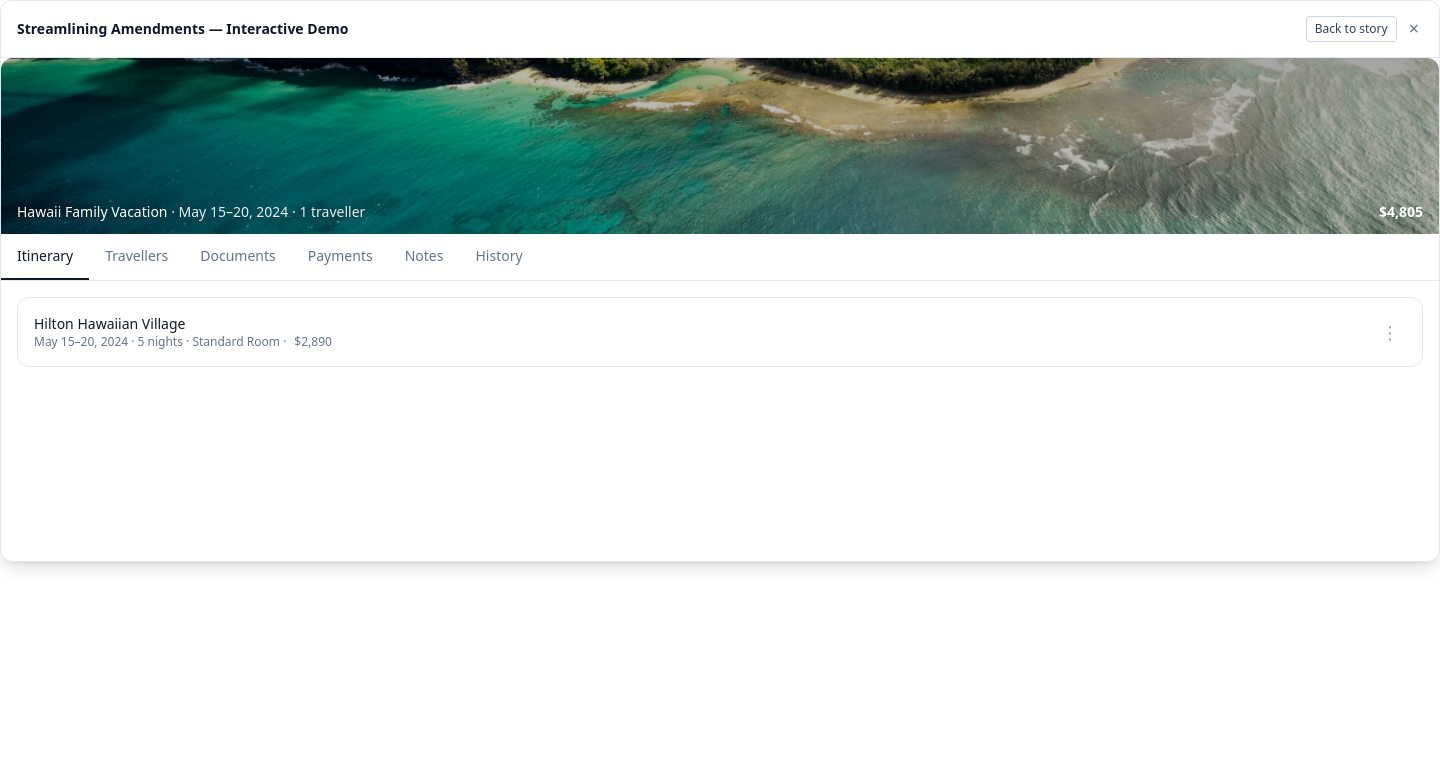
Dream flow – user flows › Confirm collapses flow and shows amended card in itinerary
The width and height of the screenshot is (1440, 775).
Click the button named "Actions": (1390, 332) [1374, 316, 1406, 348]
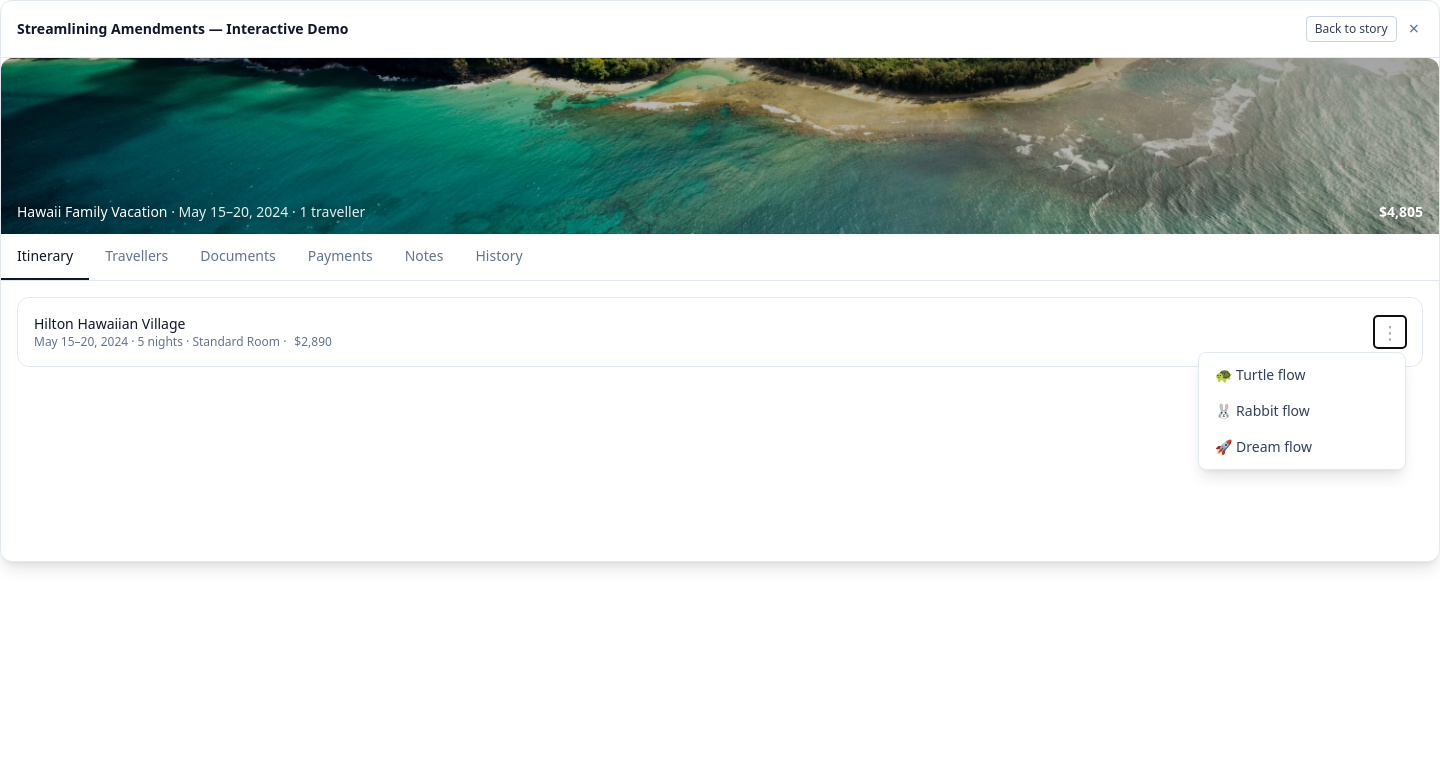
Click the button "🚀 Dream flow": (1302, 447) [1199, 429, 1405, 465]
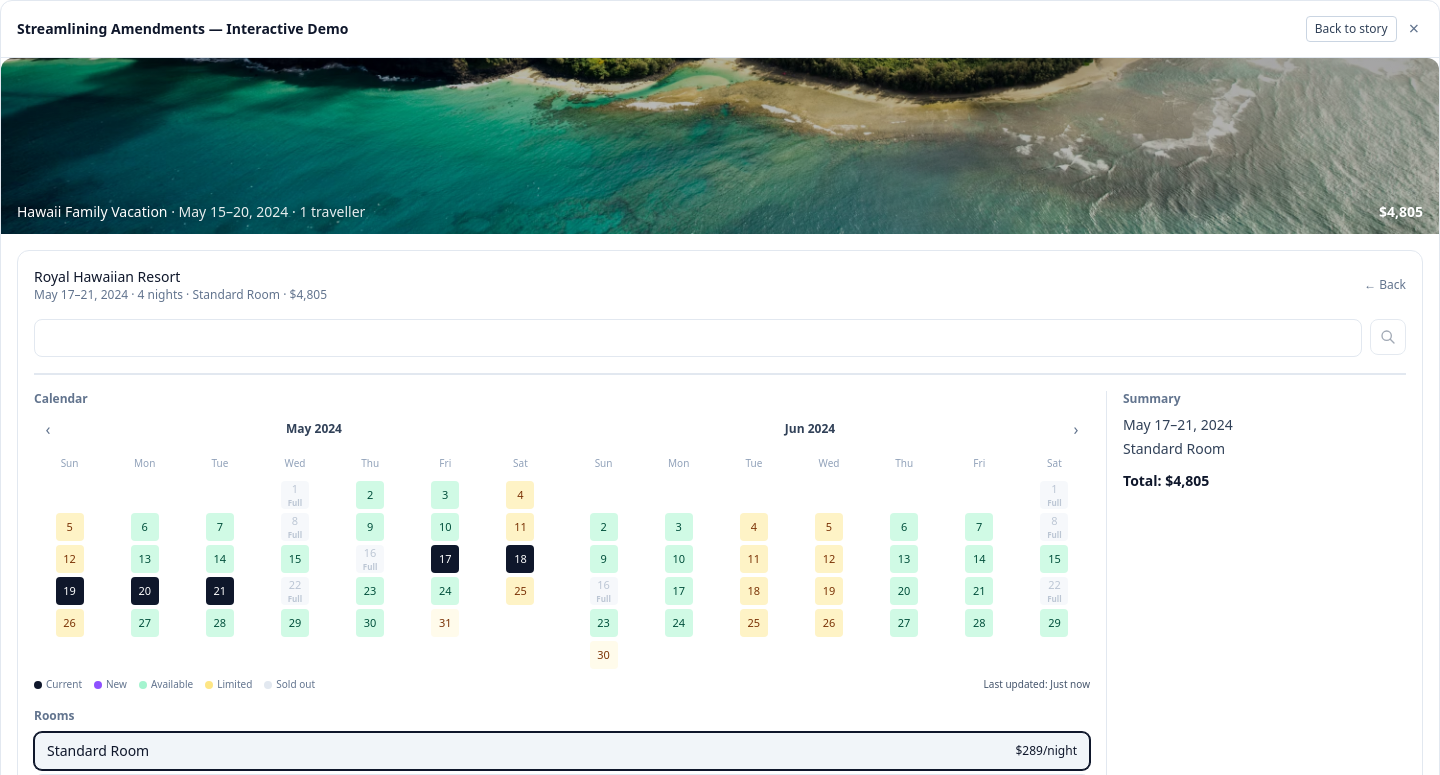
expect the text "May 17–21, 2024 · 4 nights · Standard Room · $4,805" is shown: met, box [34, 286, 327, 303]
Click the 1st button "21": (220, 591) [206, 577, 234, 605]
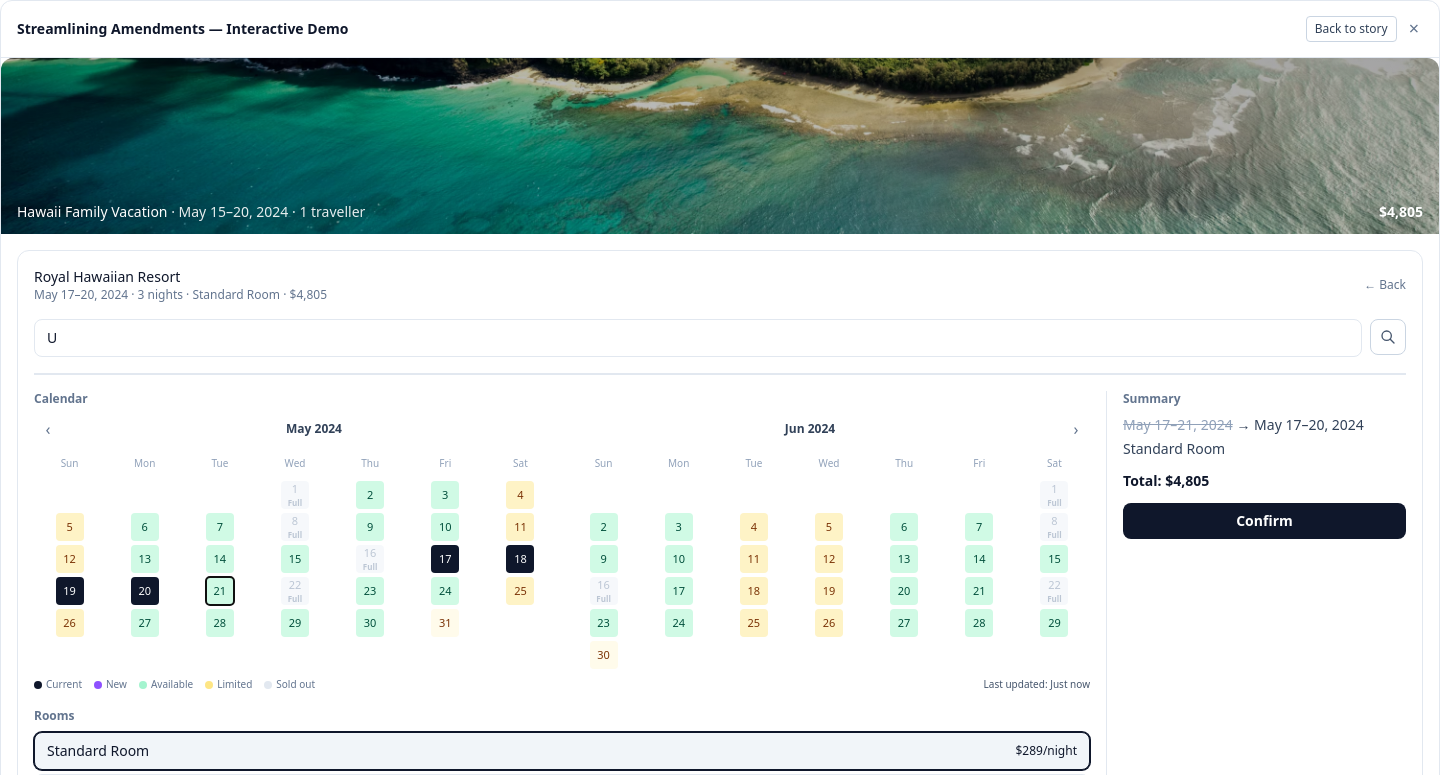
expect the button "Confirm" is shown: met
Click the button "Confirm": (1264, 521) [1123, 503, 1406, 539]
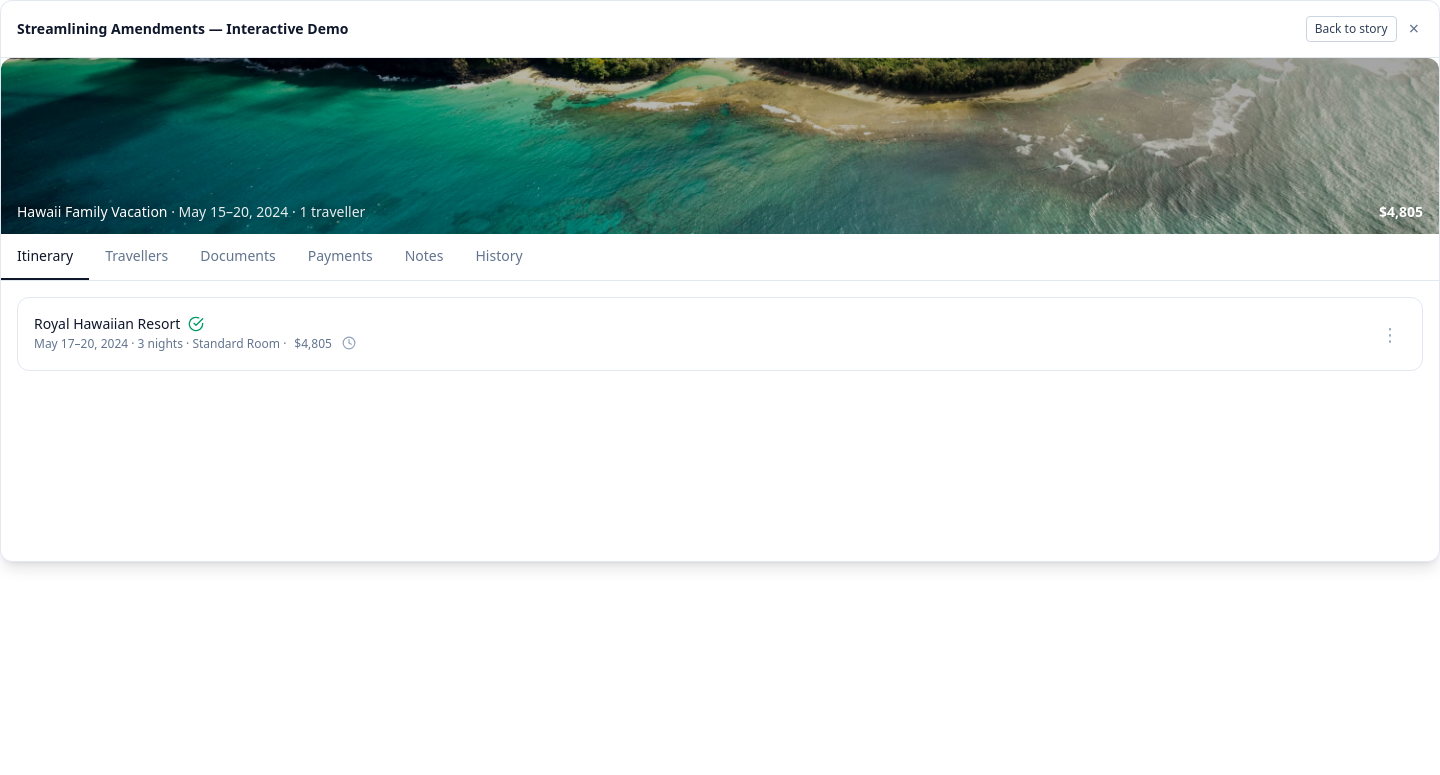
expect the text "Royal Hawaiian Resort" is shown: met, box [34, 314, 204, 333]
expect the text "Calendar" is gone: met
expect the button "Itinerary" is shown: met, box [1, 234, 89, 280]
